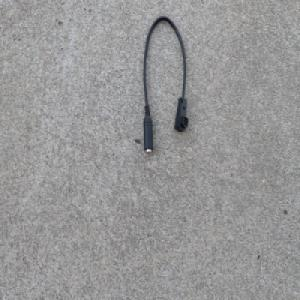Wire: (141, 13, 189, 157)
